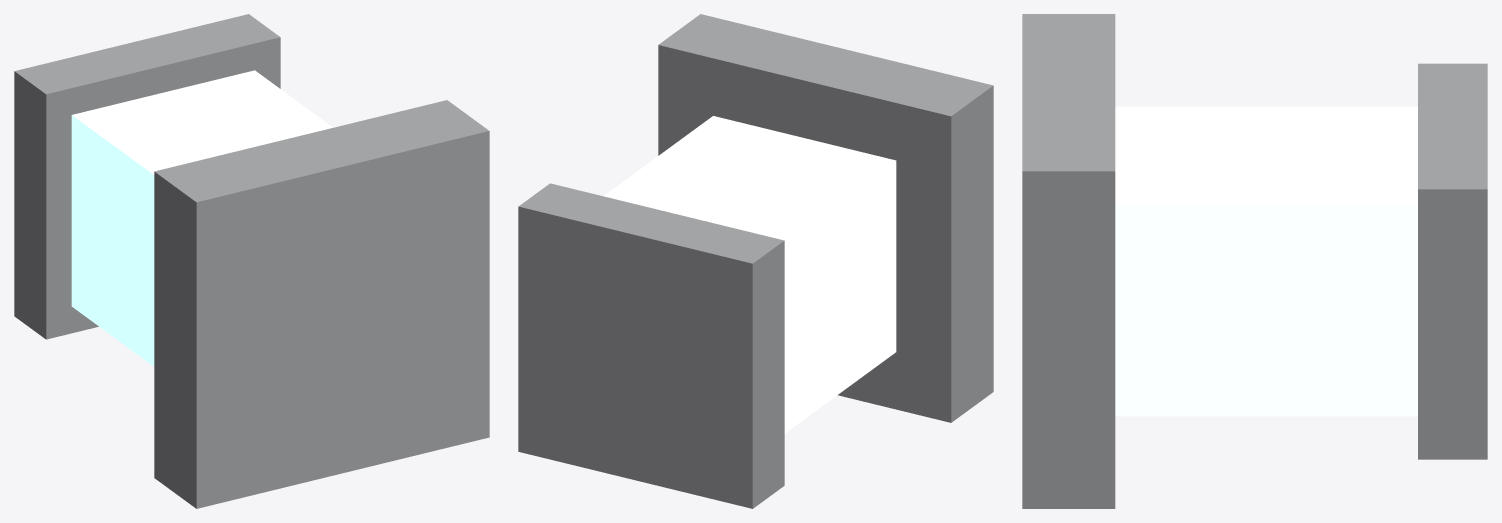
File: waystone_held.gltf
3 views of the same model, side by side, from view 1: azimuth 30°, elevation 25°; view 2: azimuth 150°, elevation 25°; view 3: azimuth 270°, elevation 25° (orthographic). The views are drawn at different scales.
Parts seen in each view (by area): view 1: travel_waystone_held; view 2: travel_waystone_held; view 3: travel_waystone_held.
Boxes of the visible parts, x1,y1,x2,y2 form: travel_waystone_held: (14,14,489,508); travel_waystone_held: (518,14,993,508); travel_waystone_held: (1022,14,1487,508).
Size of the model in its own units: 0.128 by 0.128 by 0.16.
